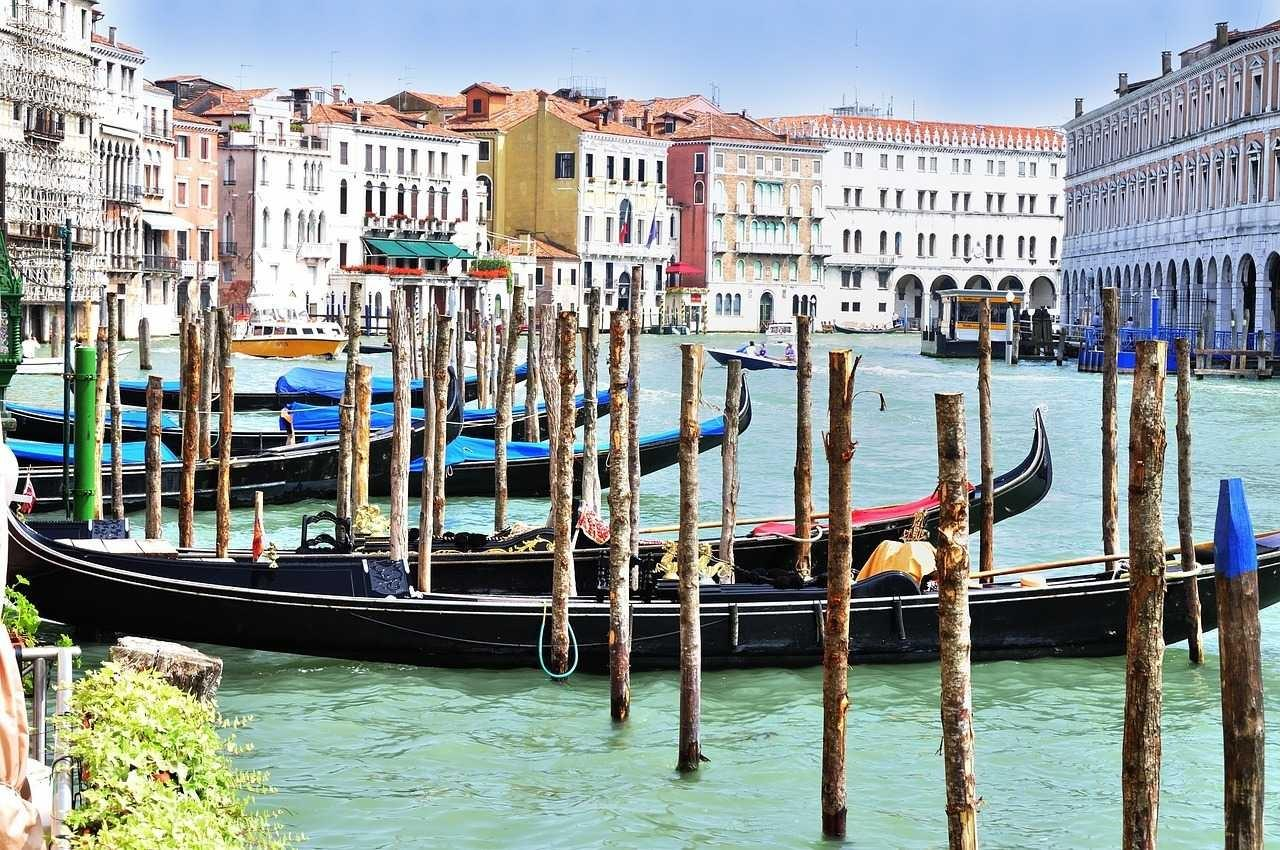kayak: (0, 404, 1191, 669), (2, 354, 340, 489), (808, 401, 1052, 551), (405, 396, 732, 497), (276, 347, 460, 439), (424, 433, 553, 497), (919, 287, 1023, 357), (706, 322, 801, 370), (228, 320, 345, 358)
